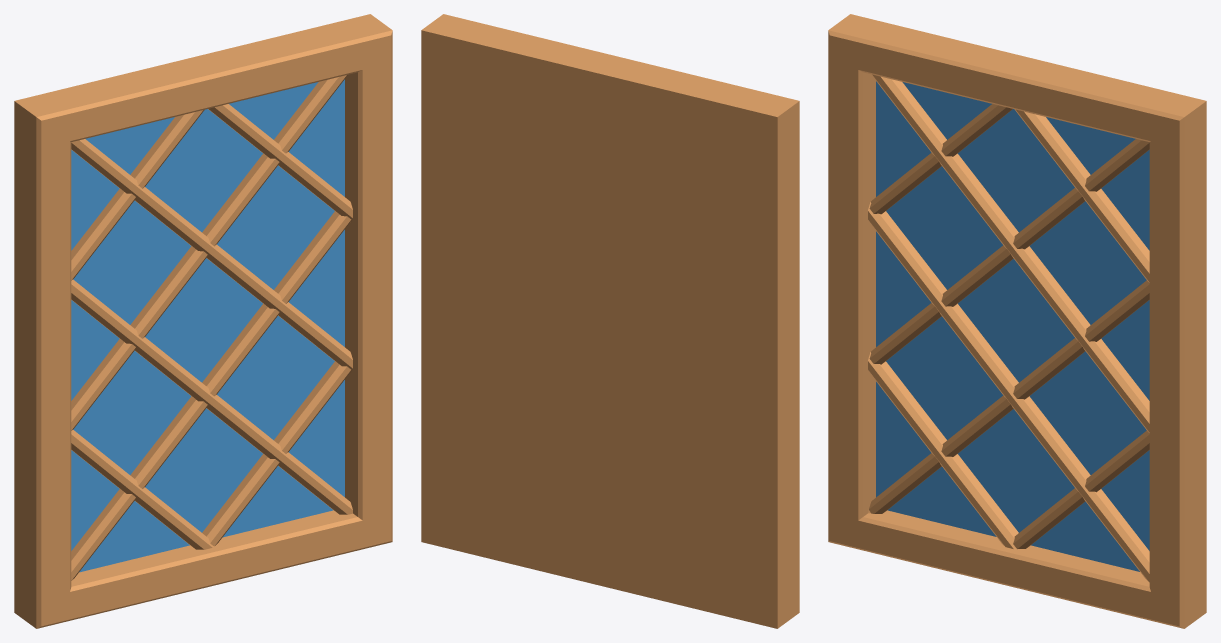
File: Window_small.fbx
The picture shows the model from 3 angles, left to right: view 1: azimuth 30°, elevation 25°; view 2: azimuth 150°, elevation 25°; view 3: azimuth 330°, elevation 25°; orthographic projection.
Visible parts, largest first — view 1: Window_small_low; view 2: Window_small_low; view 3: Window_small_low.
Part boxes in pixels (x1=…): Window_small_low: x1=14, y1=14, x2=392, y2=628; Window_small_low: x1=421, y1=14, x2=799, y2=628; Window_small_low: x1=828, y1=14, x2=1206, y2=628.
Bounding box in the file's own units: 175 × 240 × 20.4.
